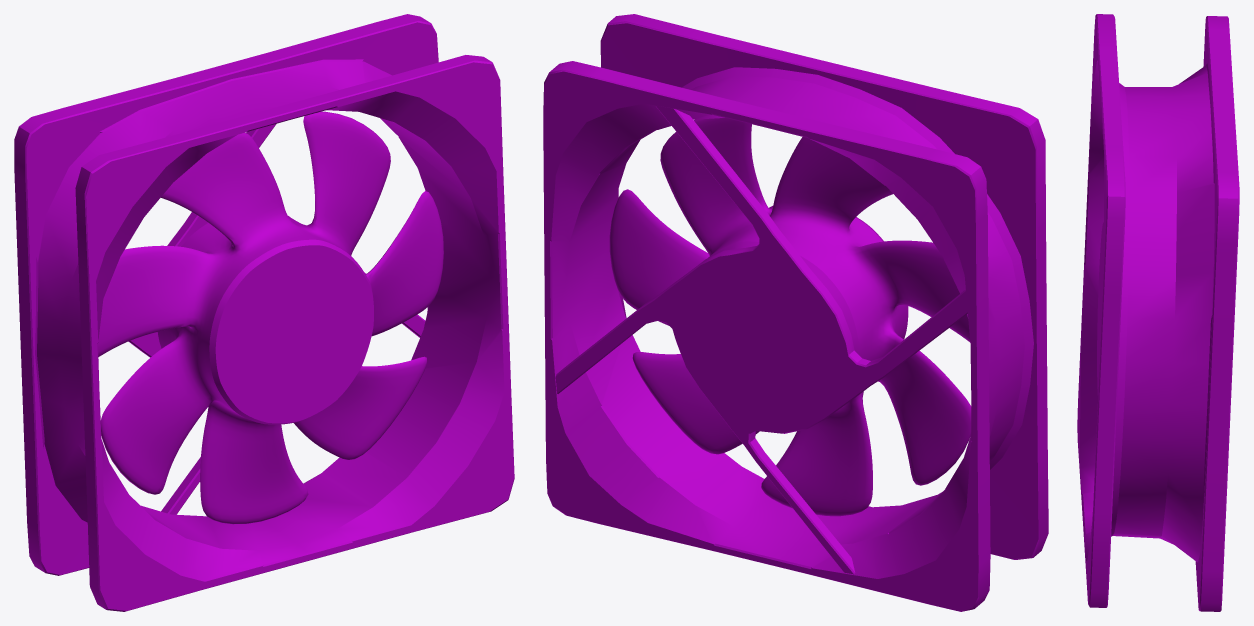
Rendered from fan.obj.
3 renders of one model, left to right at view 1: azimuth 30°, elevation 25°; view 2: azimuth 150°, elevation 25°; view 3: azimuth 270°, elevation 25°, orthographic. The views are drawn at different scales.
Parts seen in each view (by area): view 1: fan; view 2: fan; view 3: fan.
Boxes of the visible parts, left/top/right/bottom form: fan: left=14, top=14, right=514, bottom=611; fan: left=543, top=14, right=1048, bottom=611; fan: left=1077, top=14, right=1239, bottom=611.
Size of the model in its own units: 0.6872 by 0.6983 by 0.2381.
